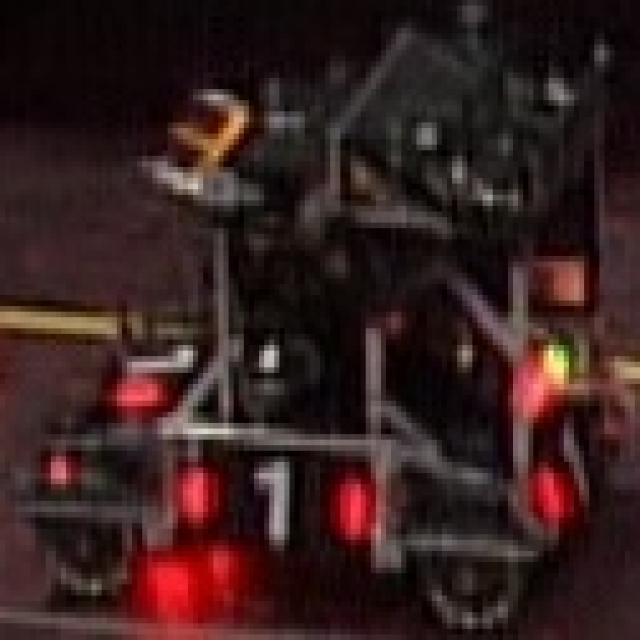R1: (162, 443, 376, 548), (510, 378, 607, 529), (92, 312, 218, 428)
